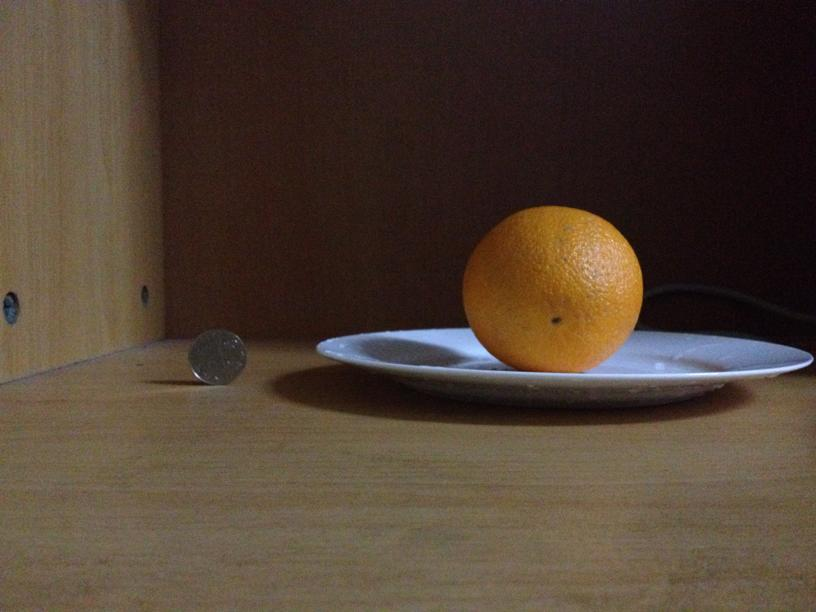coin: (188, 327, 247, 387)
orange: (463, 204, 643, 372)
